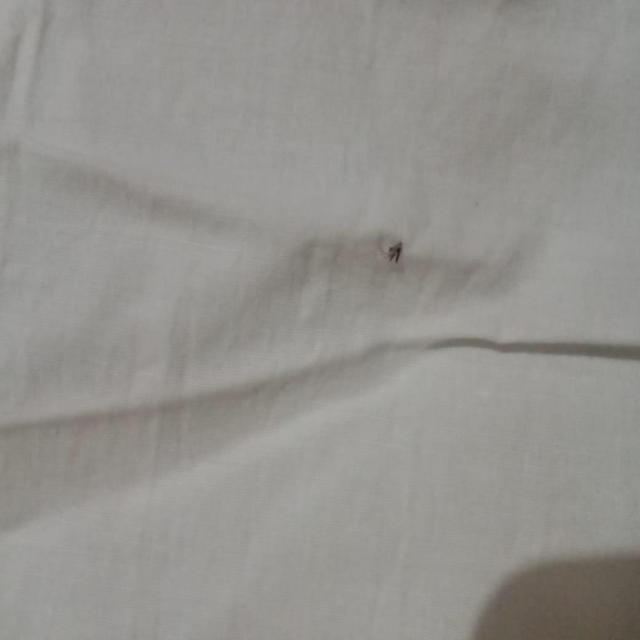stain: (376, 228, 417, 271)
